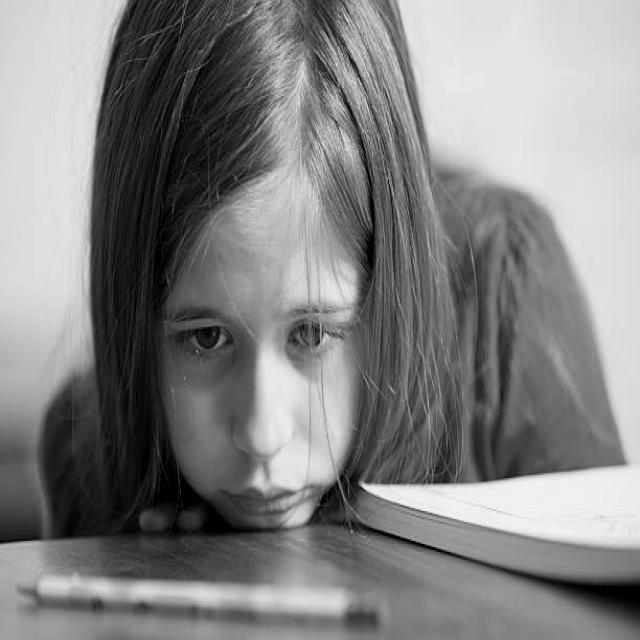Looking away: (164, 180, 364, 529)
